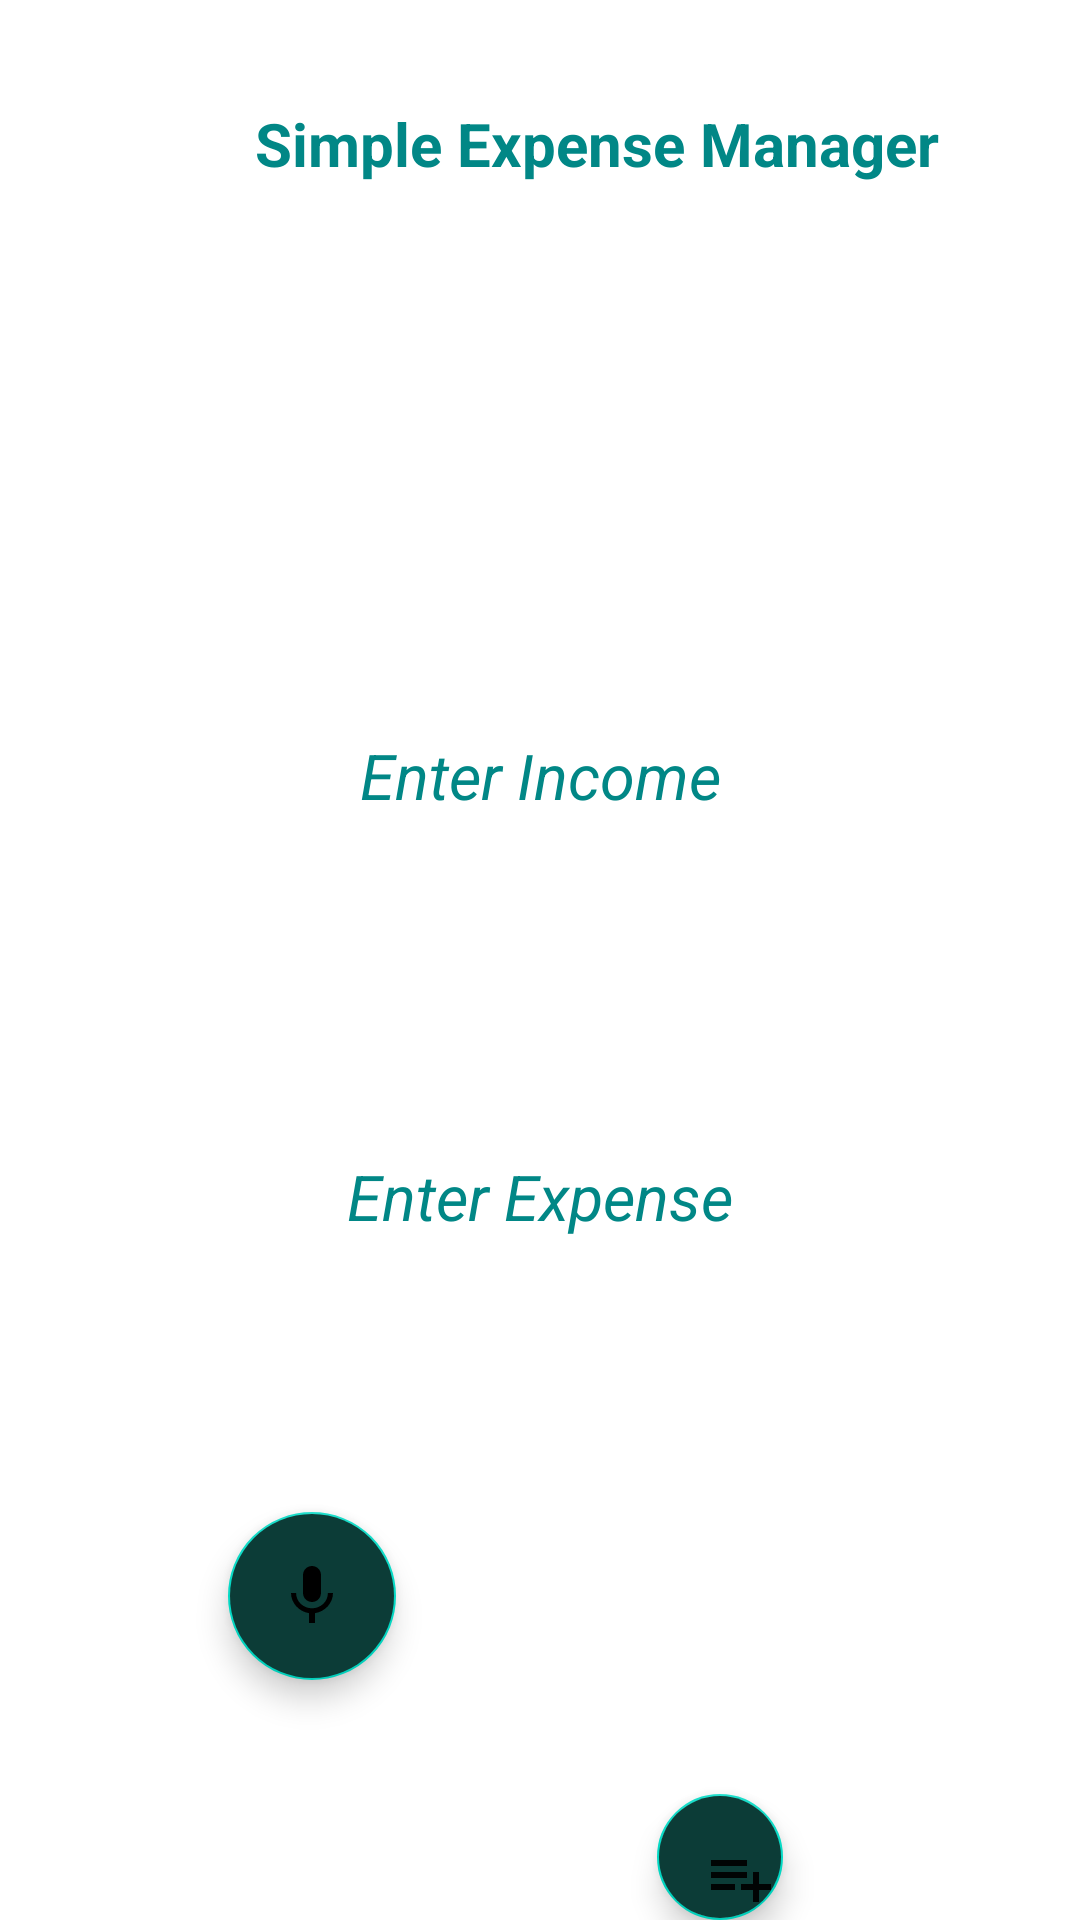

Icons on this 1080×1920 Android screen, each with its box as (x1, y1, x2, y2):
mic: (228, 1512, 396, 1680)
playlist add: (657, 1794, 783, 1920)
